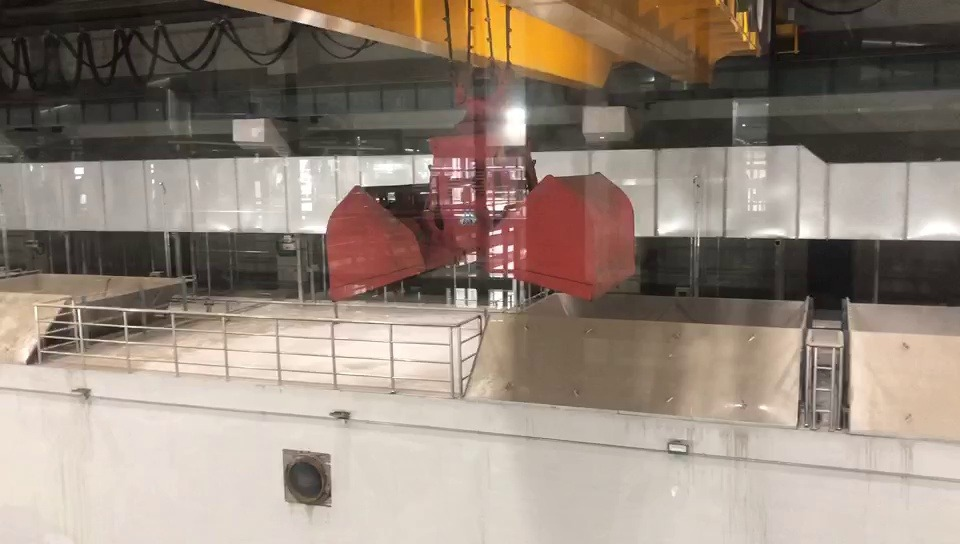grab: (321, 56, 641, 309)
